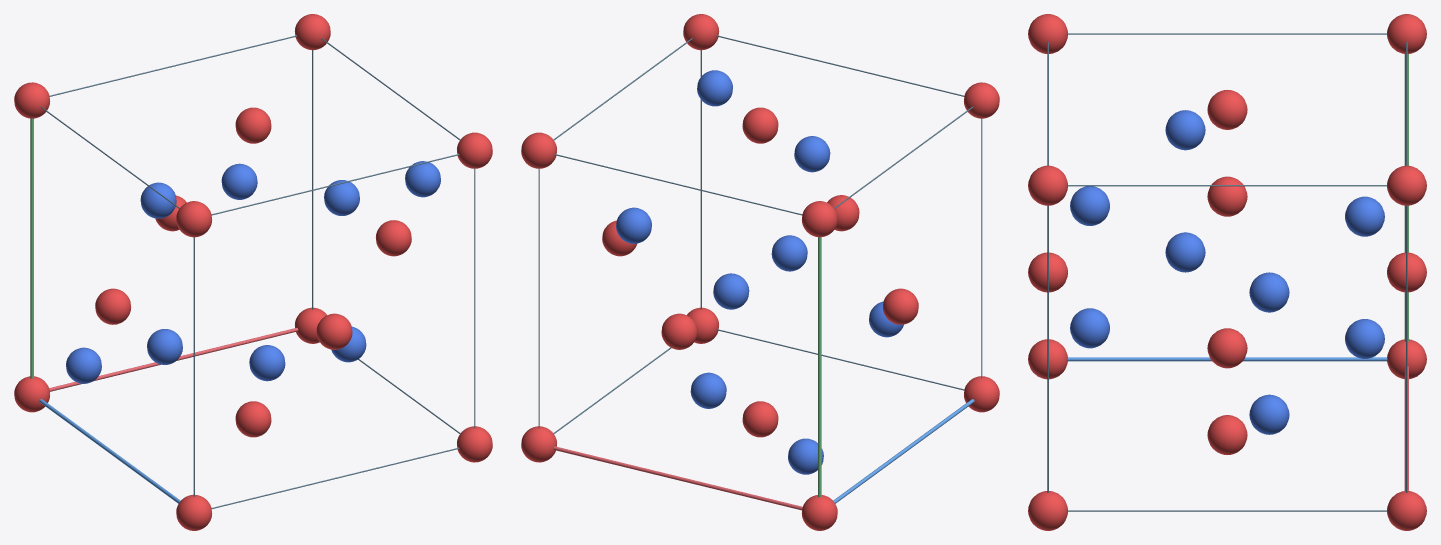
The model's file is chat-solid-nitrous-oxide.glb.
3 renders of one model, left to right at view 1: azimuth 30°, elevation 25°; view 2: azimuth 150°, elevation 25°; view 3: azimuth 270°, elevation 25°, orthographic. The views are drawn at different scales.
Parts seen in each view (by area): view 1: O · O · 1 (×13), N · N · 1 (×8), Ô mạng và các trục a, b, c; view 2: O · O · 1 (×14), N · N · 1 (×8), Ô mạng và các trục a, b, c; view 3: O · O · 1 (×14), N · N · 1 (×8), Ô mạng và các trục a, b, c.
Part boxes in pixels (box(x1,y1,x2,y2)): O · O · 1 (×13): box(14, 14, 492, 530); N · N · 1 (×8): box(66, 161, 440, 383); Ô mạng và các trục a, b, c: box(30, 35, 475, 508); O · O · 1 (×14): box(521, 14, 999, 530); N · N · 1 (×8): box(616, 70, 903, 474); Ô mạng và các trục a, b, c: box(538, 35, 982, 510); O · O · 1 (×14): box(1028, 14, 1426, 530); N · N · 1 (×8): box(1070, 110, 1384, 434); Ô mạng và các trục a, b, c: box(1047, 33, 1408, 511).
Bounding box in the file's own units: 6.36 × 6.36 × 6.36.
